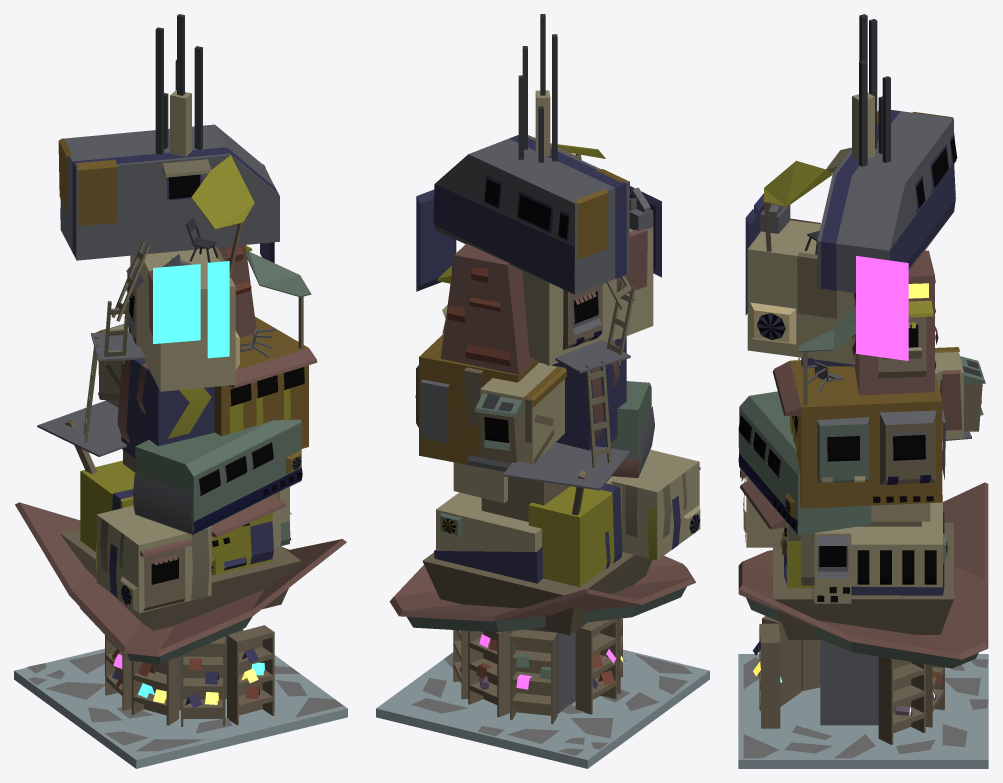
File: Slums4.fbx
3 renders of one model, left to right at view 1: azimuth 30°, elevation 25°; view 2: azimuth 150°, elevation 25°; view 3: azimuth 270°, elevation 25°, orthographic. The views are drawn at different scales.
Parts seen in each view (by area): view 1: Road.049, Road.048; view 2: Road.049, Road.048; view 3: Road.049, Road.048.
Boxes of the visible parts, x1,y1,x2,y2 form: Road.049: [15, 14, 346, 751]; Road.048: [14, 648, 347, 768]; Road.049: [389, 14, 700, 755]; Road.048: [376, 649, 709, 768]; Road.049: [738, 14, 988, 758]; Road.048: [738, 654, 988, 768].
Size of the model in its own units: 200 by 617 by 200.
